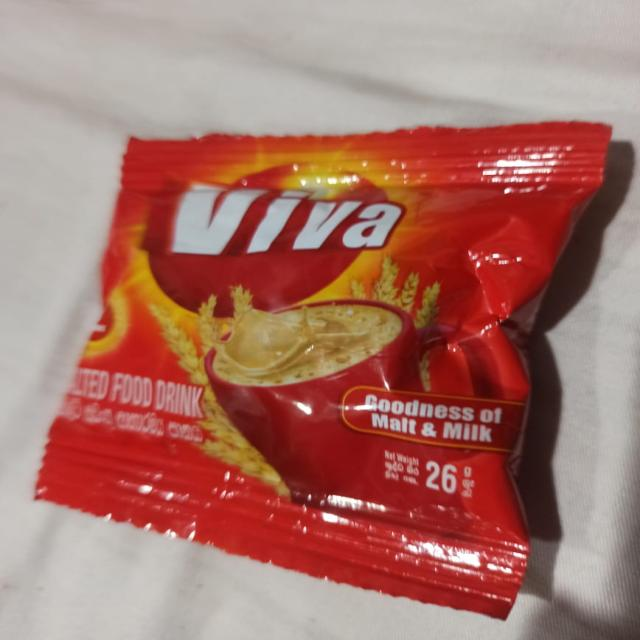Viva Malt: (65, 97, 596, 589)
